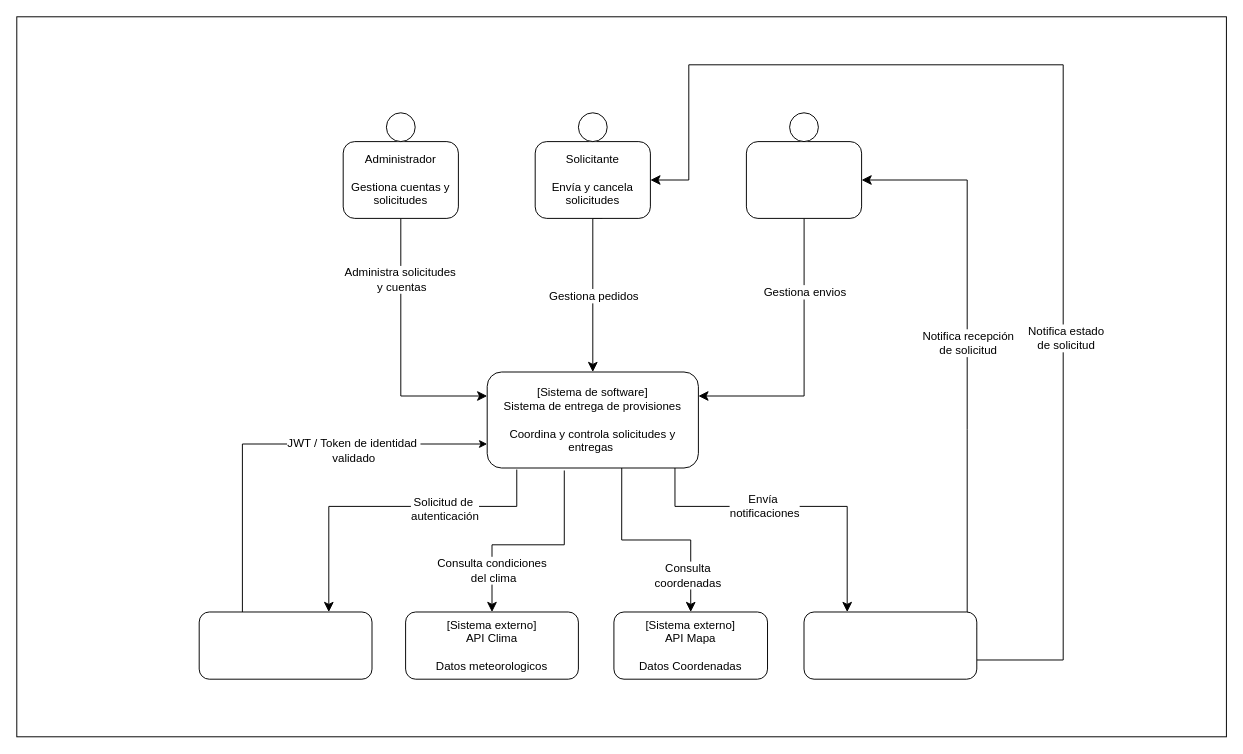
Image size: 1243x754. Some labels were removed from this diagram. The box of each missing label's shape, as (x1, y1, x2, y2) in pixels:
[Sistema externo] Clerk Datos de autenticación: (198, 611, 372, 679)
[Sistema externo] Sistema de notificaciones Envía notificaciones: (803, 611, 977, 679)
Remitente Envía y gestiona paquetes: (745, 141, 862, 218)
